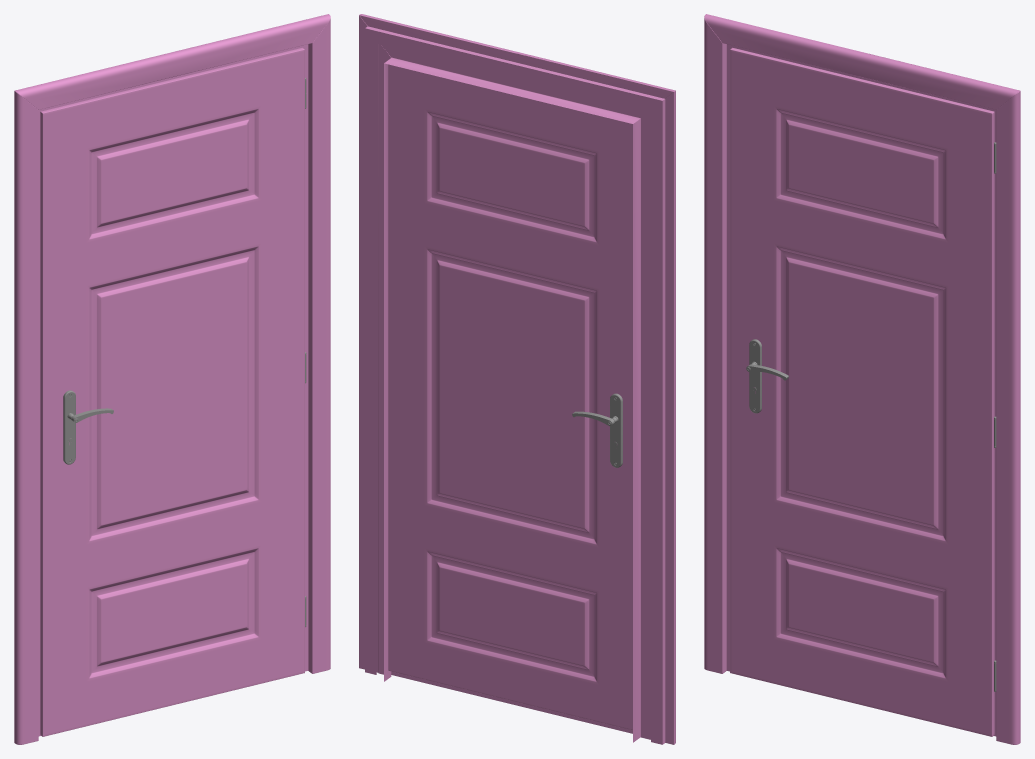
The model's file is door002.FBX.
The picture shows the model from 3 angles, left to right: view 1: azimuth 30°, elevation 25°; view 2: azimuth 150°, elevation 25°; view 3: azimuth 330°, elevation 25°; orthographic projection.
Visible parts, largest first — view 1: door002, ru4ka_006; view 2: door002, ru4ka_008; view 3: door002, ru4ka_006.
Boxes of the visible parts, box(x1,y1,x2,y2) form: door002: box(14, 14, 330, 744); ru4ka_006: box(63, 390, 78, 464); door002: box(359, 14, 675, 744); ru4ka_008: box(607, 393, 622, 467); door002: box(704, 14, 1020, 744); ru4ka_006: box(746, 339, 761, 413).
Size of the model in its own units: 42.52 by 84.25 by 5.21.
